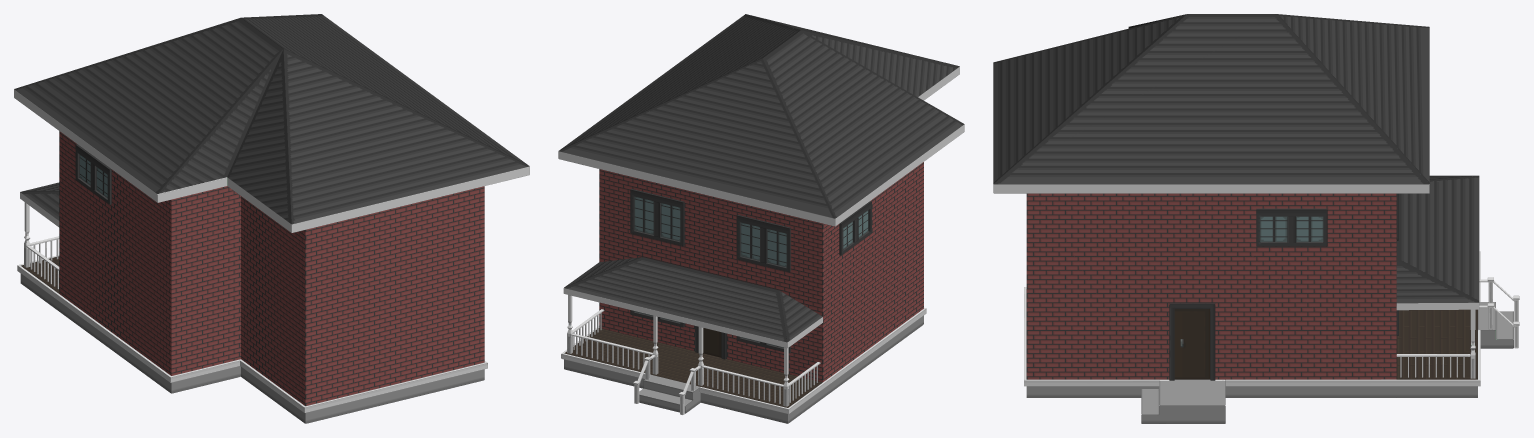
Rendered from House_3 1.fbx.
3 views of the same model, side by side, from view 1: azimuth 30°, elevation 25°; view 2: azimuth 150°, elevation 25°; view 3: azimuth 270°, elevation 25° (orthographic). The views are drawn at different scales.
Visible parts, largest first — view 1: House3, HouseRoof, HouseFrame, PorchRail, PorchRoof, HouseWindows; view 2: HouseRoof, House3, PorchRoof, PorchRail, HouseWindows, HouseFrame; view 3: House3, HouseRoof, PorchRoof, HouseFrame, SideStairs, PorchRail, HouseWindows.
Boxes of the visible parts, <box> form: House3: <box>20,131,484,423</box>; HouseRoof: <box>14,14,529,232</box>; HouseFrame: <box>17,255,487,412</box>; PorchRail: <box>24,202,59,289</box>; PorchRoof: <box>20,182,59,227</box>; HouseWindows: <box>75,144,111,204</box>; HouseRoof: <box>558,14,964,226</box>; House3: <box>564,162,923,423</box>; PorchRoof: <box>563,257,822,348</box>; PorchRail: <box>567,295,820,414</box>; HouseWindows: <box>630,189,871,359</box>; HouseFrame: <box>561,307,926,414</box>; House3: <box>1026,193,1477,397</box>; HouseRoof: <box>993,14,1429,193</box>; PorchRoof: <box>1396,175,1479,310</box>; HouseFrame: <box>1024,251,1480,386</box>; SideStairs: <box>1141,379,1225,423</box>; PorchRail: <box>1396,277,1519,378</box>; HouseWindows: <box>1169,193,1398,380</box>.
Bounding box in the file's own units: 975 × 866 × 1289.
7 materials, 7 textured.
